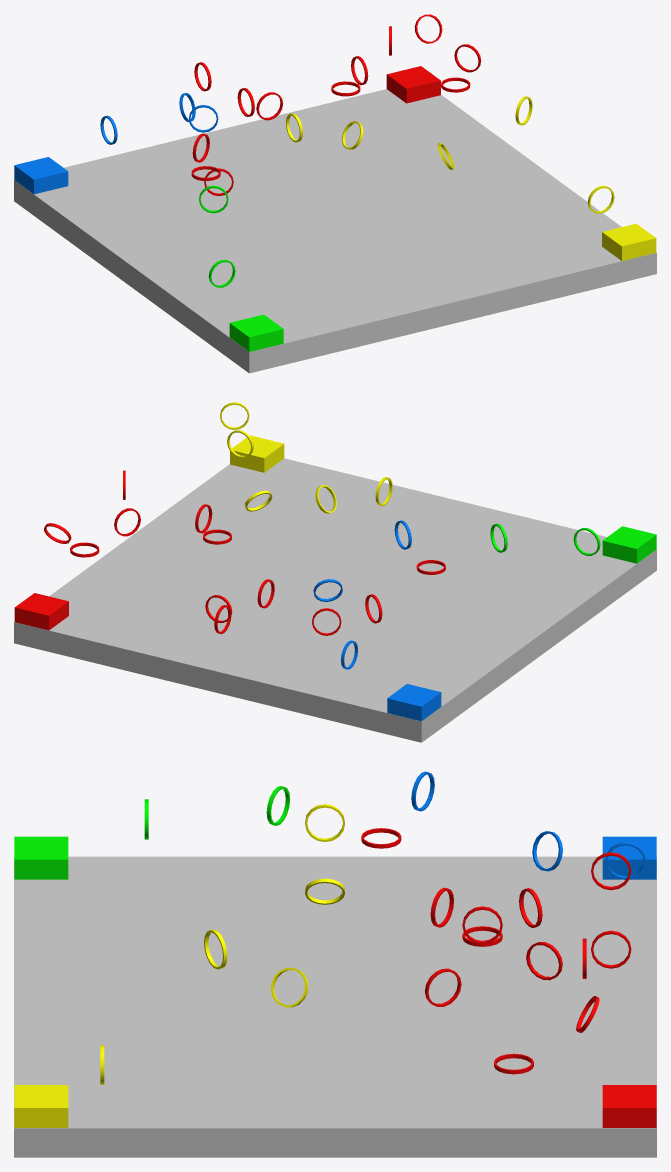
Rendered from LVL NavigationRoomWhiteBox.FBX.
The picture shows the model from 3 angles, top to bottom: view 1: azimuth 30°, elevation 25°; view 2: azimuth 150°, elevation 25°; view 3: azimuth 270°, elevation 25°; orthographic projection. The views are drawn at different scales.
Visible parts, largest first — view 1: Floor, Box, Box2, Box3, Box4; view 2: Floor, Box2, Box4, Box, Box3; view 3: Floor, Box2, Box3, Box4, Box.
Part boxes in pixels (<box>): Floor: <box>14,89,656,373</box>; Box: <box>14,157,68,194</box>; Box2: <box>229,314,283,351</box>; Box3: <box>602,223,656,260</box>; Box4: <box>386,66,440,103</box>; Floor: <box>14,458,656,742</box>; Box2: <box>602,526,656,563</box>; Box4: <box>14,593,68,630</box>; Box: <box>387,684,441,721</box>; Box3: <box>230,435,284,472</box>; Floor: <box>14,856,656,1157</box>; Box2: <box>14,836,68,879</box>; Box3: <box>14,1085,68,1127</box>; Box4: <box>602,1085,656,1127</box>; Box: <box>602,836,656,879</box>.
Size of what is drawn, in the model's own units: 8000 by 8000 by 2566.
